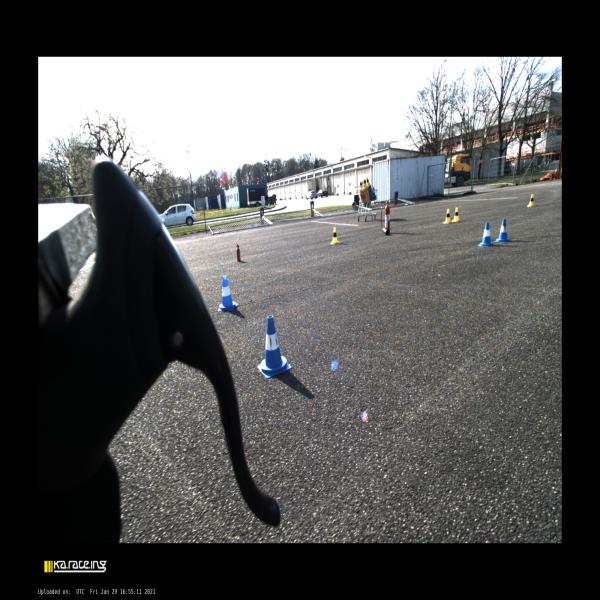blue_cone: (257, 316, 291, 378), (217, 276, 238, 311), (477, 222, 496, 247), (494, 219, 511, 242), (372, 187, 376, 196)
orange_cone: (555, 166, 558, 172)
yellow_cone: (330, 227, 340, 244), (442, 209, 451, 224), (452, 207, 460, 222), (527, 194, 535, 207), (359, 180, 364, 190), (363, 177, 368, 187), (366, 176, 370, 186)
